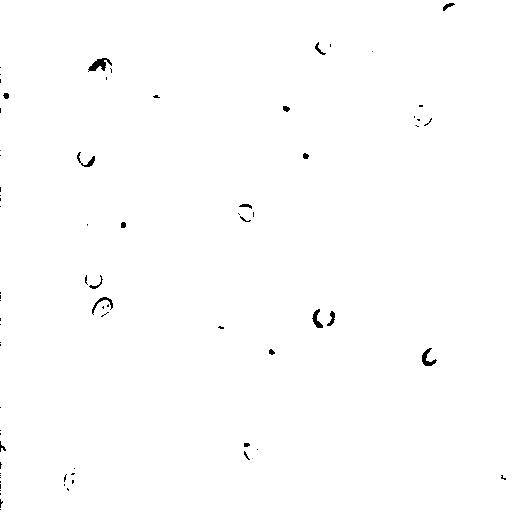micro-algae: (161, 0, 258, 88), (191, 167, 282, 255), (388, 260, 453, 327), (105, 0, 177, 55), (279, 0, 339, 37), (485, 239, 511, 307), (211, 39, 253, 80), (209, 313, 253, 352), (401, 33, 439, 74), (321, 298, 357, 337), (81, 54, 115, 89), (375, 303, 409, 335), (61, 467, 94, 495), (407, 101, 435, 129), (113, 217, 142, 244), (269, 93, 300, 117), (370, 37, 395, 65), (71, 213, 97, 239), (308, 305, 335, 328), (388, 217, 413, 241), (1, 81, 21, 110), (258, 337, 282, 361), (491, 459, 511, 487), (493, 420, 511, 451), (92, 296, 116, 319), (293, 136, 313, 163), (421, 345, 444, 367), (76, 147, 98, 169), (83, 268, 105, 289), (314, 33, 333, 55), (438, 1, 460, 19), (241, 439, 259, 461), (238, 203, 255, 223), (229, 226, 246, 246), (1, 498, 23, 512), (1, 442, 10, 467)
